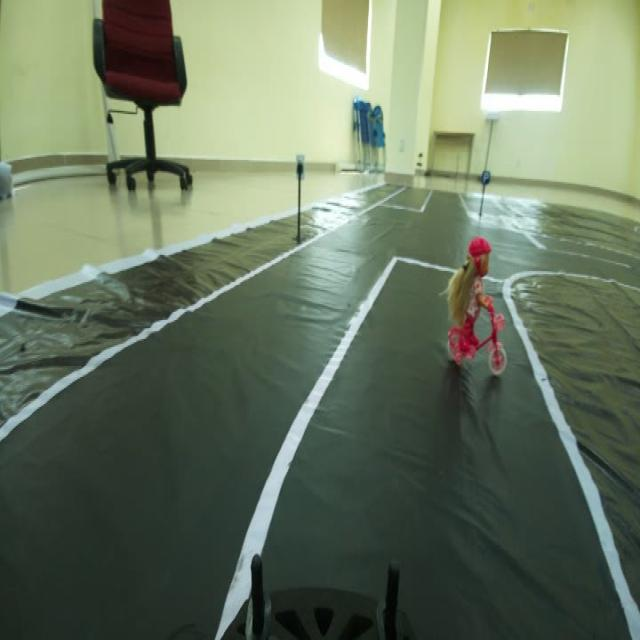pedestrian: (437, 232, 507, 391)
